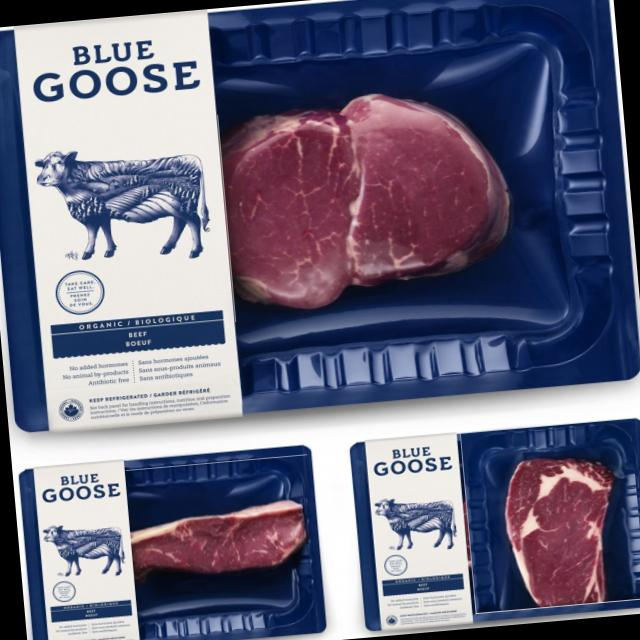beef: (216, 88, 526, 322), (125, 454, 321, 636), (457, 420, 640, 611)
